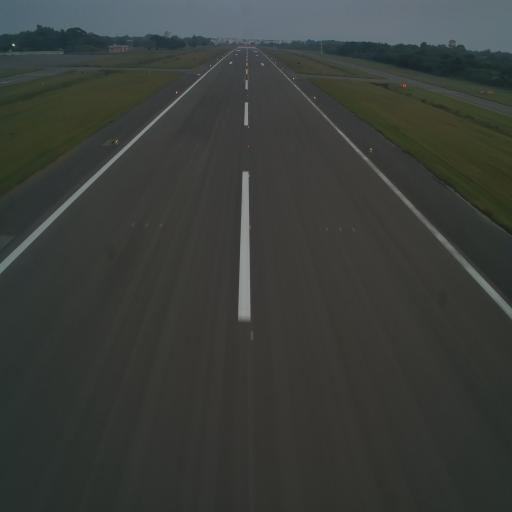off: (143, 219, 149, 230), (337, 224, 343, 235), (350, 225, 356, 236), (156, 221, 163, 230), (130, 220, 136, 229), (324, 225, 329, 233), (195, 142, 199, 148), (300, 144, 303, 152), (187, 143, 191, 148), (292, 144, 294, 152), (308, 145, 310, 152), (180, 143, 182, 148)
on: (250, 328, 256, 345), (368, 146, 374, 153), (248, 222, 252, 232), (114, 137, 119, 145), (246, 144, 250, 152), (248, 172, 252, 178), (247, 124, 249, 130)
